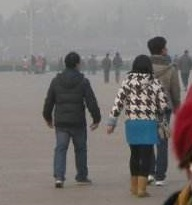person: (108, 52, 169, 197), (42, 50, 102, 188), (145, 36, 183, 186), (100, 51, 113, 84), (112, 51, 124, 84), (31, 54, 43, 74), (88, 54, 98, 76), (22, 55, 30, 76), (173, 54, 179, 67)
